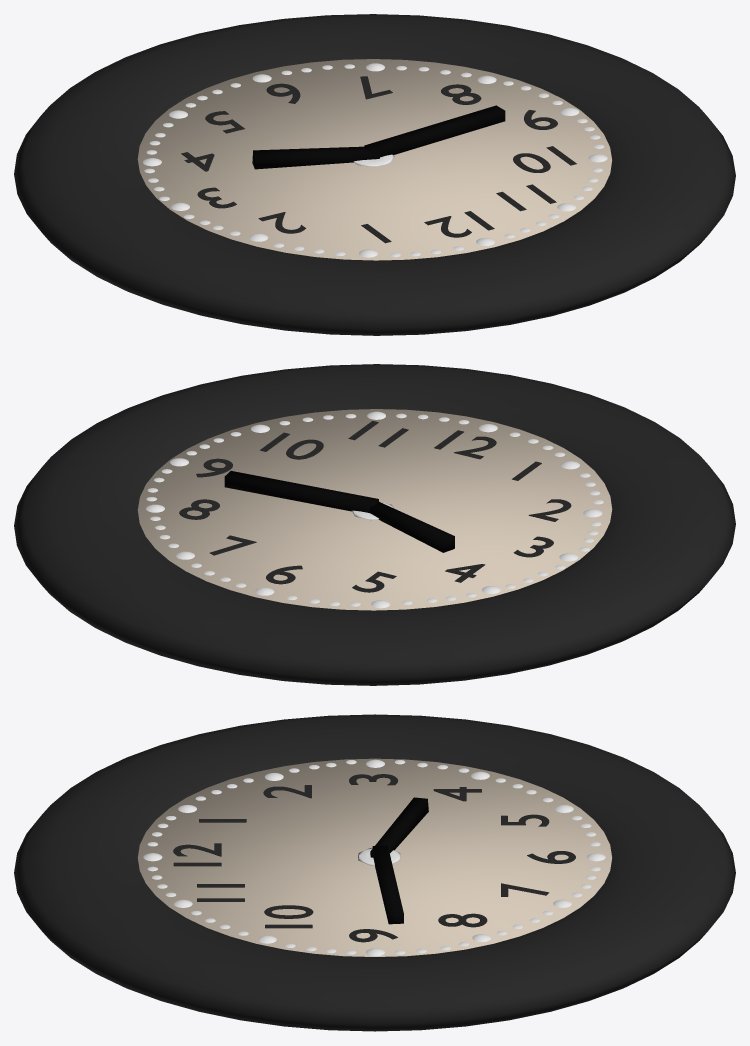
The model's file is clock.fbx.
3 renders of one model, top to bottom at view 1: azimuth 30°, elevation 25°; view 2: azimuth 150°, elevation 25°; view 3: azimuth 270°, elevation 25°, orthographic.
Visible parts, largest first — view 1: Torus, Cylinder, Cube, Cube.001, Text.011, Text; view 2: Torus, Cylinder, Cube, Cube.001, Text.011, Text; view 3: Torus, Cylinder, Cube, Cube.001, Text.011, Text.
Part boxes in pixels (x1,y1,x2,y2): Torus: (14, 14, 735, 335); Cylinder: (137, 59, 612, 260); Cube: (364, 105, 505, 159); Cube.001: (252, 146, 379, 169); Text.011: (513, 146, 576, 172); Text: (424, 211, 494, 237); Torus: (14, 364, 735, 685); Cylinder: (137, 409, 612, 610); Cube: (224, 471, 378, 512); Cube.001: (369, 502, 454, 552); Text.011: (260, 432, 323, 459); Text: (434, 430, 496, 459); Torus: (14, 714, 735, 1031); Cylinder: (137, 758, 612, 956); Cube: (372, 845, 403, 924); Cube.001: (370, 797, 428, 857); Text.011: (264, 905, 313, 928); Text: (173, 843, 221, 866).
Bounding box in the file's own units: 1.01 × 0.0801 × 1.02.
